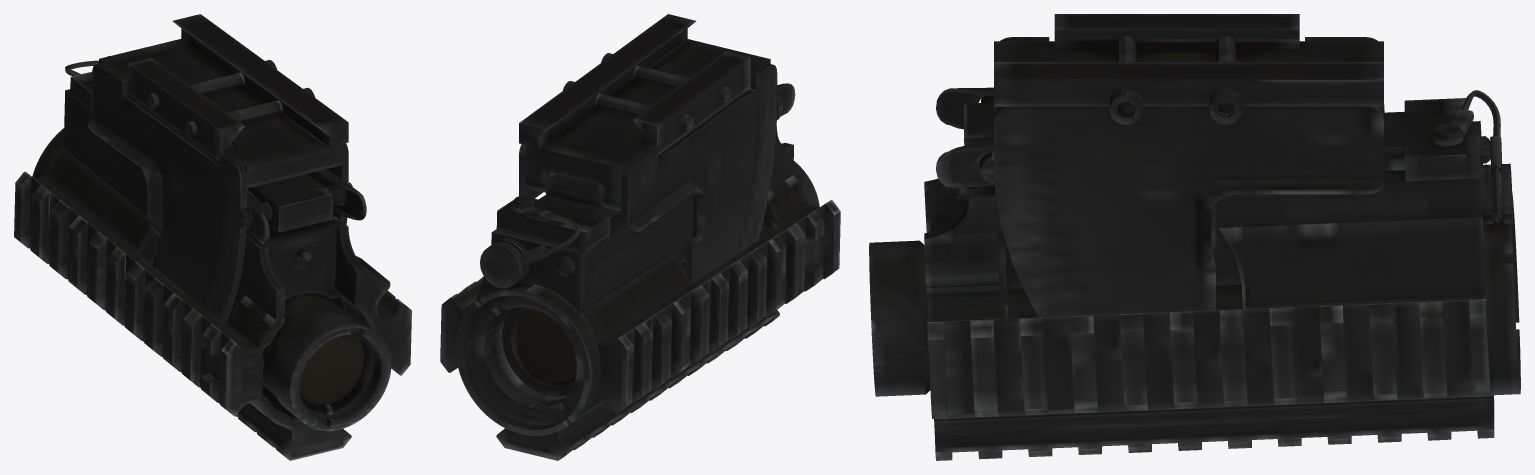
3 renders of one model, left to right at view 1: azimuth 30°, elevation 25°; view 2: azimuth 150°, elevation 25°; view 3: azimuth 270°, elevation 25°, orthographic. The views are drawn at different scales.
Visible parts, largest first — view 1: TW_6284bd5f95250a29bc628a30_range50_PZ_Import; view 2: TW_6284bd5f95250a29bc628a30_range50_PZ_Import; view 3: TW_6284bd5f95250a29bc628a30_range50_PZ_Import.
Part boxes in pixels (left/top/right/bottom): TW_6284bd5f95250a29bc628a30_range50_PZ_Import: left=14, top=14, right=411, bottom=460; TW_6284bd5f95250a29bc628a30_range50_PZ_Import: left=440, top=14, right=840, bottom=460; TW_6284bd5f95250a29bc628a30_range50_PZ_Import: left=869, top=14, right=1520, bottom=460.
Bounding box in the file's own units: 0.0322 × 0.0749 × 0.0505.
Materials: 1 (1 with a texture image).
